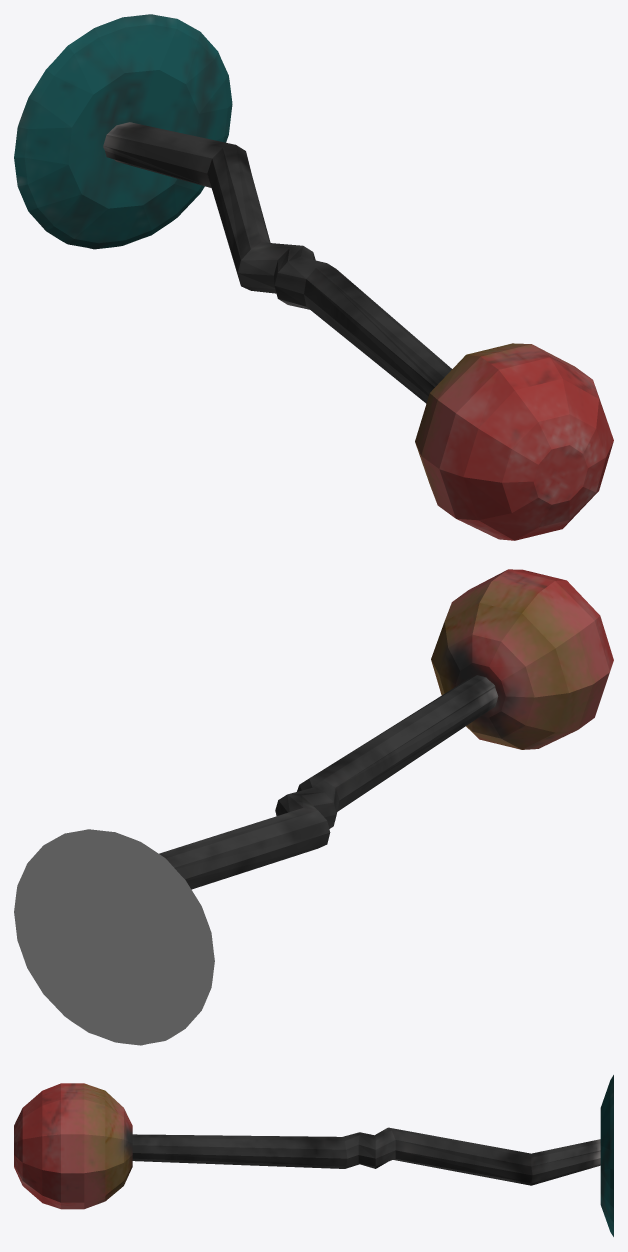
Rendered from Rocket Antenna.obj.
3 renders of one model, top to bottom at view 1: azimuth 30°, elevation 25°; view 2: azimuth 150°, elevation 25°; view 3: azimuth 270°, elevation 25°, orthographic. The views are drawn at different scales.
Visible parts, largest first — view 1: Object.1; view 2: Object.1; view 3: Object.1.
Part boxes in pixels (bbox=[...]): Object.1: bbox=[14, 14, 613, 540]; Object.1: bbox=[14, 569, 613, 1045]; Object.1: bbox=[14, 1075, 613, 1236].
Bounding box in the file's own units: 3.39 × 3.36 × 12.35.
1 material, 1 textured.
